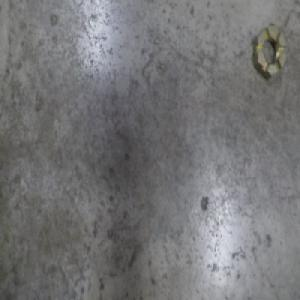Nut: (252, 22, 288, 84)
